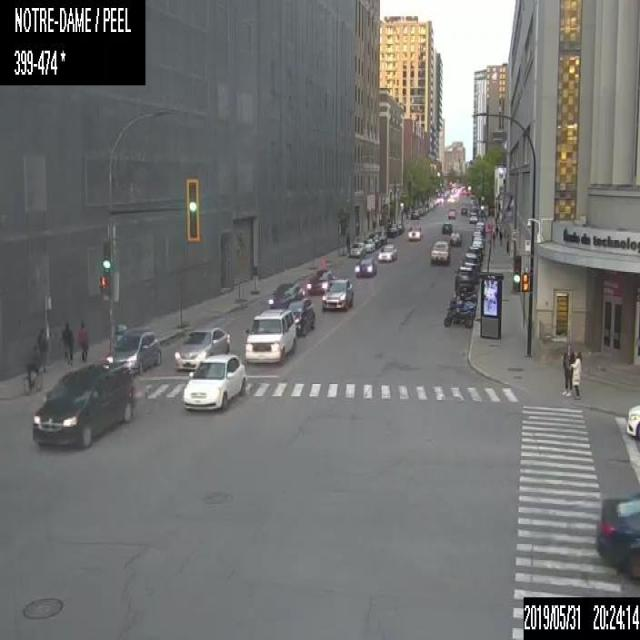construction: (486, 222, 492, 233)
cyclist: (21, 343, 42, 394)
pedestrian: (569, 350, 582, 400), (562, 344, 573, 397), (36, 325, 48, 373), (60, 317, 72, 363), (78, 318, 88, 362), (344, 230, 351, 255), (494, 223, 498, 236), (498, 230, 502, 243), (506, 240, 509, 252), (492, 230, 494, 242)
vehicle: (31, 360, 135, 448), (593, 485, 639, 579), (182, 352, 247, 409), (245, 306, 298, 366), (105, 328, 160, 374), (172, 326, 230, 369), (286, 298, 316, 336), (321, 277, 353, 311), (268, 281, 305, 307), (306, 267, 334, 294), (443, 305, 473, 328), (624, 402, 639, 438), (354, 255, 376, 278), (447, 298, 475, 316), (454, 265, 474, 289), (430, 239, 449, 264), (462, 251, 479, 275), (448, 293, 476, 307), (377, 242, 396, 262), (452, 286, 477, 300), (406, 224, 422, 240), (386, 222, 404, 236), (466, 245, 482, 260), (349, 241, 365, 255), (449, 231, 462, 246), (363, 237, 375, 252), (369, 232, 380, 248), (471, 236, 484, 249), (441, 220, 452, 233), (468, 210, 477, 222), (475, 220, 484, 230), (448, 207, 457, 217), (410, 209, 419, 218), (472, 230, 484, 236), (460, 206, 466, 214)
